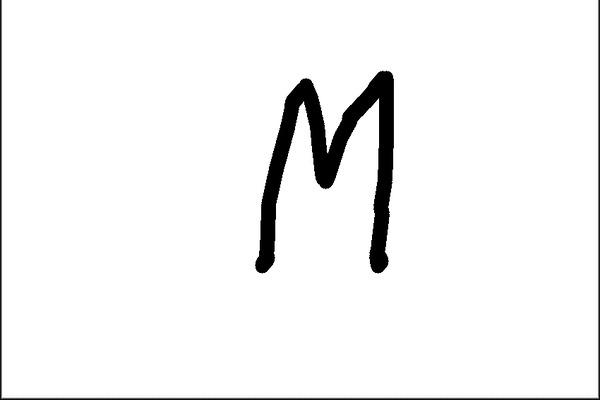M: (253, 68, 391, 275)
